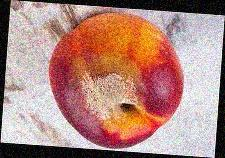rotten apple: (31, 11, 187, 148)
